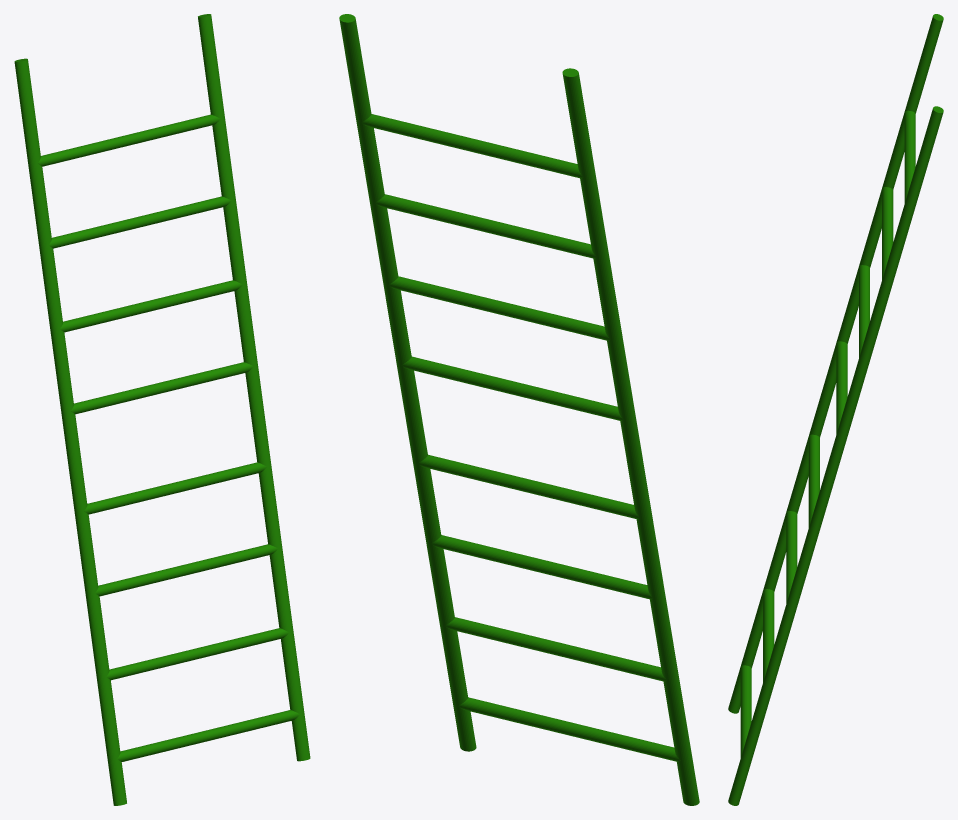
File: Ladder.fbx
3 renders of one model, left to right at view 1: azimuth 30°, elevation 25°; view 2: azimuth 150°, elevation 25°; view 3: azimuth 270°, elevation 25°, orthographic. The views are drawn at different scales.
Visible parts, largest first — view 1: Cylinder.010; view 2: Cylinder.010; view 3: Cylinder.010.
Part boxes in pixels (x1=…): Cylinder.010: x1=14, y1=14, x2=310, y2=805; Cylinder.010: x1=339, y1=14, x2=699, y2=805; Cylinder.010: x1=728, y1=14, x2=943, y2=805.
Size of the model in its own units: 94.95 by 312 by 87.81.
